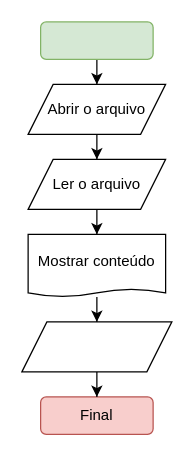
Image size: 194x456. Some labels were removed from this diagram. Here are the shapes that lost their labels. From the top down, the box of each, then its label:
(39, 21, 153, 59): Início
(21, 321, 172, 372): Fechar Arquivo
